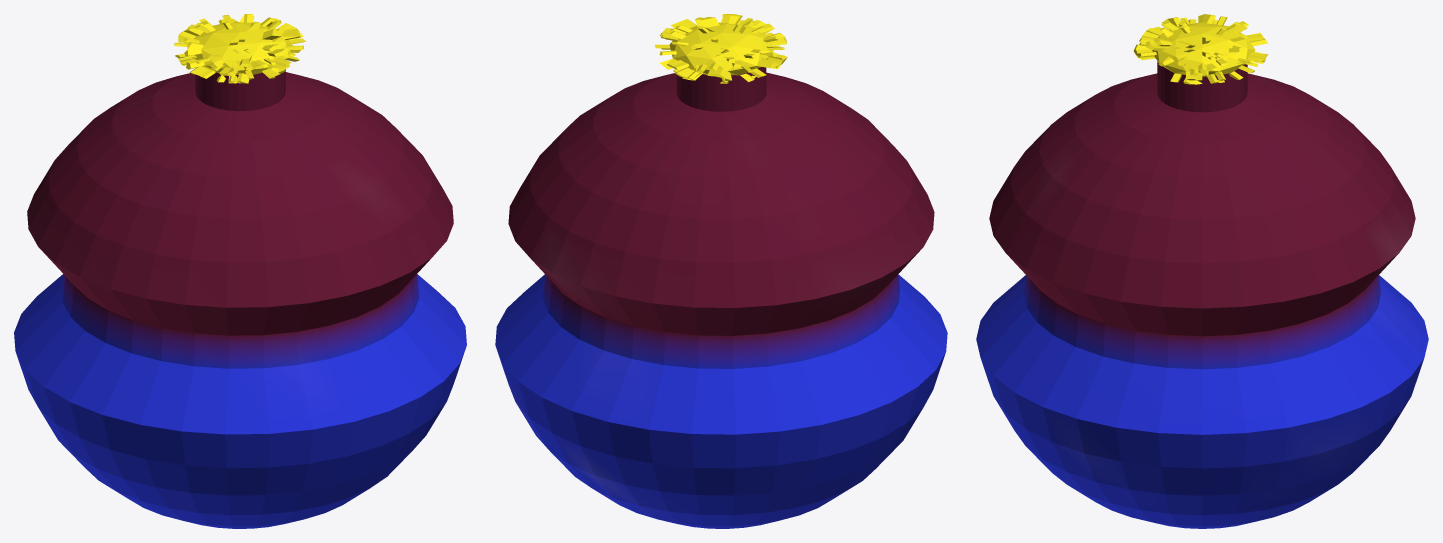
The model's file is bomb.glb.
3 renders of one model, left to right at view 1: azimuth 30°, elevation 25°; view 2: azimuth 150°, elevation 25°; view 3: azimuth 270°, elevation 25°, orthographic.
Visible parts, largest first — view 1: Sphere, Icosphere; view 2: Sphere, Icosphere; view 3: Sphere, Icosphere.
Boxes of the visible parts, x1,y1,x2,y2 form: Sphere: [14, 69, 466, 528]; Icosphere: [174, 14, 305, 83]; Sphere: [495, 67, 947, 528]; Icosphere: [654, 14, 787, 83]; Sphere: [976, 61, 1428, 528]; Icosphere: [1133, 14, 1267, 84].
Size of the model in its own units: 0.9732 by 1.13 by 0.9732.
